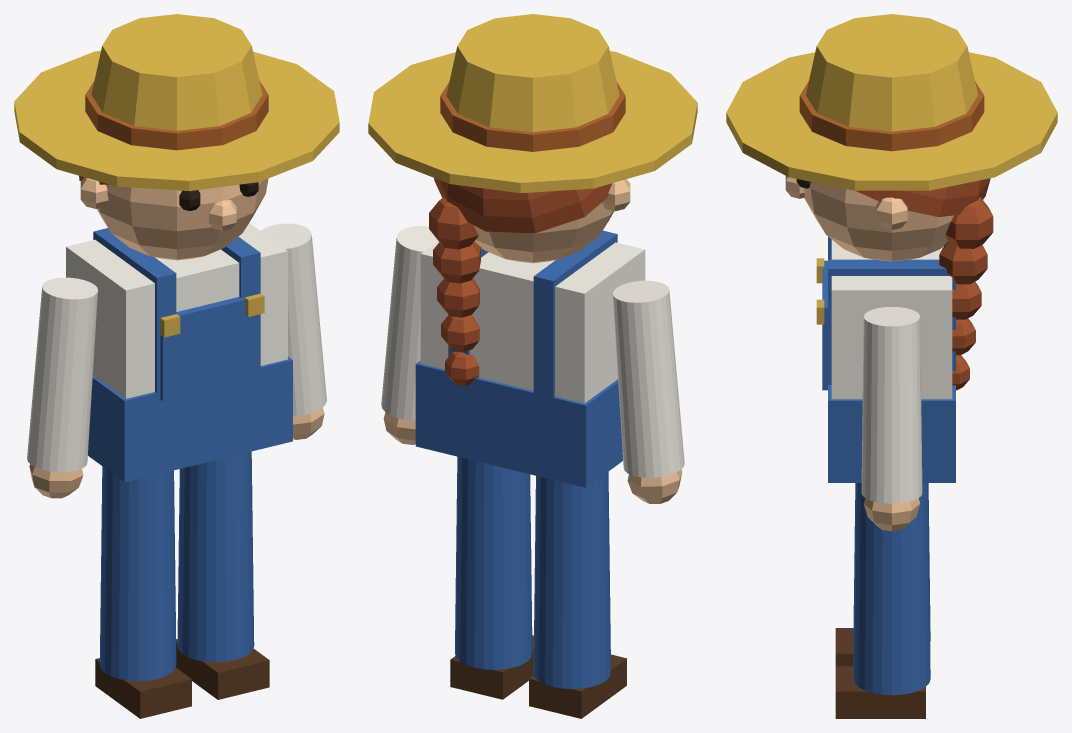
The model's file is HERO_MASHA.glb.
3 views of the same model, side by side, from view 1: azimuth 30°, elevation 25°; view 2: azimuth 150°, elevation 25°; view 3: azimuth 270°, elevation 25° (orthographic).
Parts seen in each view (by area): view 1: head, hero_masha, leg_left, leg_right, torso, arm_left, arm_right; view 2: head, hero_masha, torso, leg_left, leg_right, arm_left, arm_right; view 3: head, leg_right, arm_right, torso, hero_masha, leg_left.
Boxes of the visible parts, bbox=[...] form: head: bbox=[14, 14, 339, 260]; hero_masha: bbox=[88, 228, 292, 482]; leg_left: bbox=[95, 466, 191, 718]; leg_right: bbox=[176, 451, 269, 699]; torso: bbox=[66, 223, 287, 398]; arm_left: bbox=[27, 277, 97, 498]; arm_right: bbox=[261, 223, 326, 439]; head: bbox=[368, 14, 697, 385]; hero_masha: bbox=[415, 230, 622, 487]; torso: bbox=[420, 241, 645, 403]; leg_left: bbox=[529, 471, 626, 718]; leg_right: bbox=[450, 456, 533, 699]; arm_left: bbox=[613, 280, 684, 503]; arm_right: bbox=[381, 226, 437, 444]; head: bbox=[726, 14, 1057, 390]; leg_right: bbox=[835, 483, 930, 718]; arm_right: bbox=[861, 306, 922, 531]; torso: bbox=[831, 239, 952, 399]; hero_masha: bbox=[816, 236, 955, 482]; leg_left: bbox=[835, 483, 930, 666].
Size of the model in its own units: 0.8744 by 1.82 by 0.8536.
